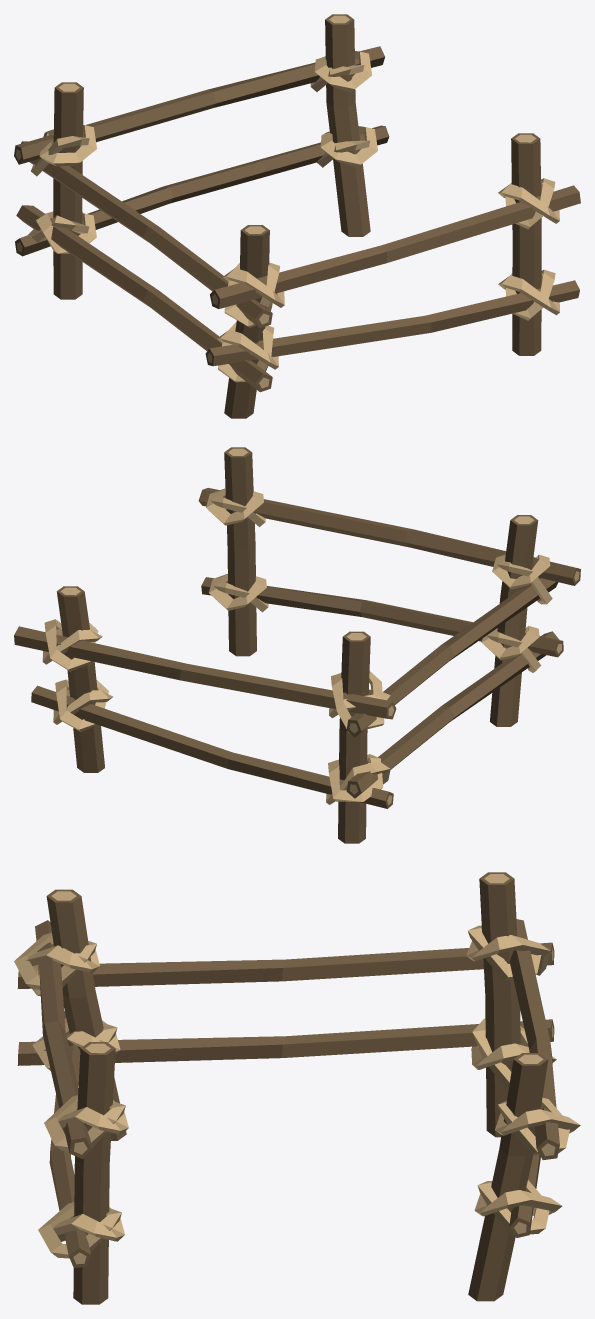
Rendered from rpgpp_ag_wall_platform_03_handrail_02a.fbx.
3 renders of one model, top to bottom at view 1: azimuth 30°, elevation 25°; view 2: azimuth 150°, elevation 25°; view 3: azimuth 270°, elevation 25°, orthographic. The views are drawn at different scales.
Parts seen in each view (by area): view 1: rpgpp_ag_wall_platform_03_handrail_02a; view 2: rpgpp_ag_wall_platform_03_handrail_02a; view 3: rpgpp_ag_wall_platform_03_handrail_02a.
Part boxes in pixels (box(x1,y1,x2,y2)): rpgpp_ag_wall_platform_03_handrail_02a: box(14, 14, 580, 418); rpgpp_ag_wall_platform_03_handrail_02a: box(14, 447, 580, 843); rpgpp_ag_wall_platform_03_handrail_02a: box(14, 872, 580, 1304).
Size of the model in its own units: 2.8 by 1.48 by 3.03.
